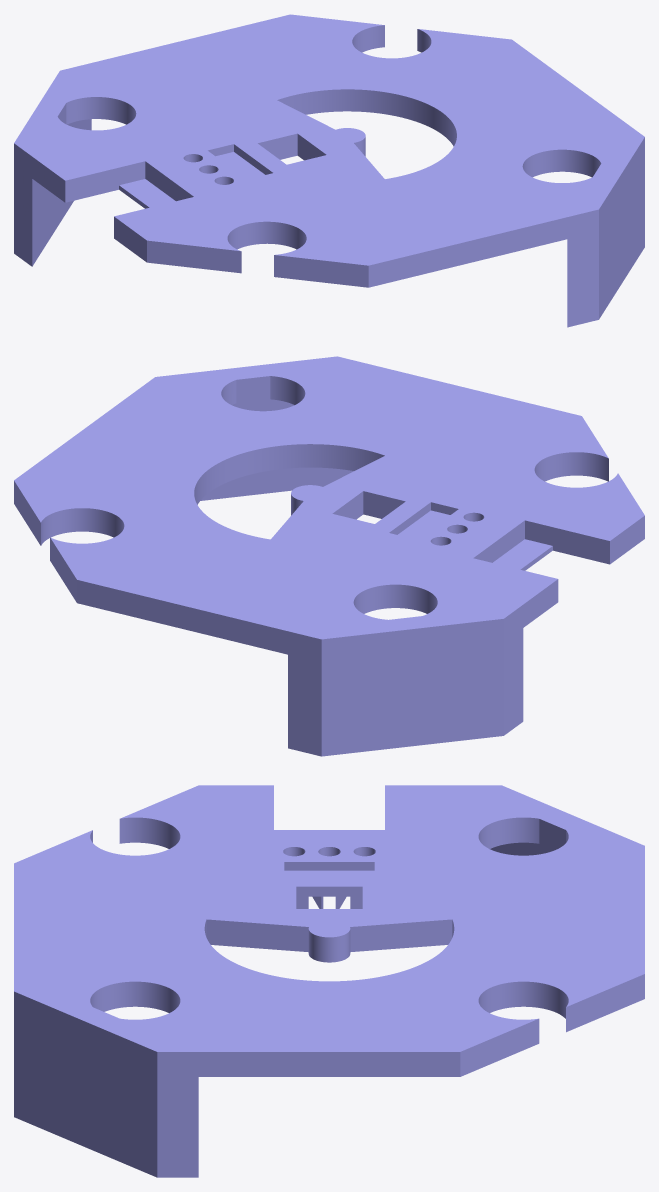
File: flowmeter-sensor.gltf
3 views of the same model, one above another, from view 1: azimuth 30°, elevation 25°; view 2: azimuth 150°, elevation 25°; view 3: azimuth 270°, elevation 25° (orthographic). The views are drawn at different scales.
Parts seen in each view (by area): view 1: SensorMount; view 2: SensorMount; view 3: SensorMount.
Part boxes in pixels (x1,y1,x2,y2): SensorMount: (14, 14, 644, 327); SensorMount: (14, 356, 644, 756); SensorMount: (14, 785, 644, 1177).
Bounding box in the file's own units: 0.0455 × 0.01 × 0.0455.
